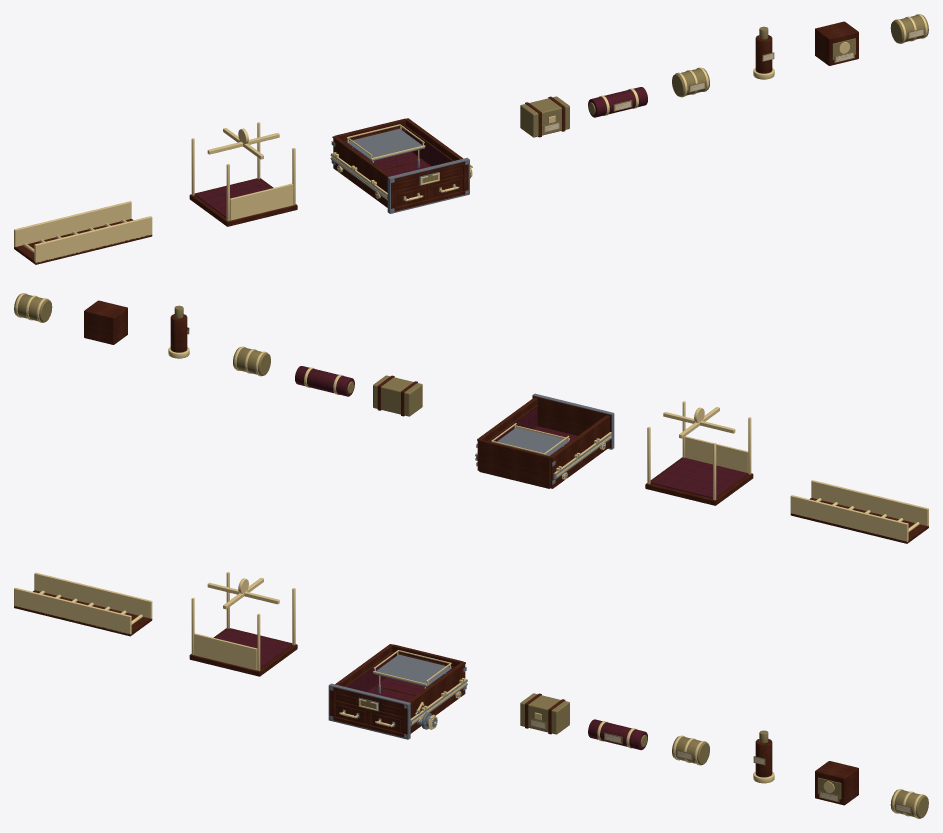
Rendered from vertical_lost_and_found_kit.glb.
3 views of the same model, one above another, from view 1: azimuth 30°, elevation 25°; view 2: azimuth 150°, elevation 25°; view 3: azimuth 330°, elevation 25° (orthographic).
Visible parts, largest first — view 1: mesh_hero_drawer_role_body_handled_lacquer, mesh_transfer_chute_flange_front, mesh_transfer_chute_flange_back, mesh_load_cage_cargo_hatch_gate, mesh_hero_drawer_role_weighing_pan_iron_structure, trunk_body, mesh_hero_drawer_role_body_worn_lining, inst_case_box, mesh_load_cage_tray_lining, mesh_hero_drawer_role_body_iron_structure, carpet_roll_outer, mesh_load_cage_tray_base (+6 smaller); view 2: mesh_hero_drawer_role_body_handled_lacquer, mesh_hero_drawer_role_rear_bulkhead_handled_lacquer, mesh_transfer_chute_flange_back, mesh_load_cage_tray_lining, mesh_transfer_chute_flange_front, inst_case_box, trunk_body, mesh_load_cage_cargo_hatch_gate, mesh_hero_drawer_role_weighing_pan_iron_structure, carpet_roll_outer, mesh_load_cage_tray_base, mesh_transfer_chute_bed (+4 smaller); view 3: mesh_hero_drawer_role_body_handled_lacquer, mesh_transfer_chute_flange_front, mesh_transfer_chute_flange_back, mesh_load_cage_cargo_hatch_gate, mesh_hero_drawer_role_weighing_pan_iron_structure, trunk_body, mesh_hero_drawer_role_body_worn_lining, inst_case_box, mesh_load_cage_tray_lining, carpet_roll_outer, mesh_hero_drawer_role_body_iron_structure, mesh_load_cage_tray_base (+6 smaller).
Part boxes in pixels (x1=…): mesh_hero_drawer_role_body_handled_lacquer: x1=332, y1=118, x2=468, y2=211; mesh_transfer_chute_flange_front: x1=34, y1=216, x2=152, y2=262; mesh_transfer_chute_flange_back: x1=14, y1=201, x2=131, y2=247; mesh_load_cage_cargo_hatch_gate: x1=230, y1=183, x2=293, y2=220; mesh_hero_drawer_role_weighing_pan_iron_structure: x1=346, y1=128, x2=424, y2=161; trunk_body: x1=520, y1=96, x2=569, y2=137; mesh_hero_drawer_role_body_worn_lining: x1=365, y1=128, x2=451, y2=175; inst_case_box: x1=815, y1=21, x2=858, y2=65; mesh_load_cage_tray_lining: x1=195, y1=178, x2=271, y2=217; mesh_hero_drawer_role_body_iron_structure: x1=331, y1=141, x2=469, y2=213; carpet_roll_outer: x1=588, y1=87, x2=647, y2=117; mesh_load_cage_tray_base: x1=189, y1=178, x2=297, y2=226; mesh_hero_drawer_role_body_handled_lacquer: x1=477, y1=396, x2=611, y2=488; mesh_hero_drawer_role_rear_bulkhead_handled_lacquer: x1=479, y1=439, x2=550, y2=488; mesh_transfer_chute_flange_back: x1=790, y1=495, x2=908, y2=541; mesh_load_cage_tray_lining: x1=650, y1=457, x2=747, y2=498; mesh_transfer_chute_flange_front: x1=811, y1=480, x2=928, y2=526; inst_case_box: x1=84, y1=300, x2=127, y2=344; trunk_body: x1=373, y1=375, x2=422, y2=416; mesh_load_cage_cargo_hatch_gate: x1=685, y1=436, x2=748, y2=472; mesh_hero_drawer_role_weighing_pan_iron_structure: x1=497, y1=427, x2=569, y2=455; carpet_roll_outer: x1=295, y1=366, x2=354, y2=396; mesh_load_cage_tray_base: x1=645, y1=457, x2=753, y2=505; mesh_transfer_chute_bed: x1=790, y1=498, x2=928, y2=543; mesh_hero_drawer_role_body_handled_lacquer: x1=329, y1=644, x2=465, y2=737; mesh_transfer_chute_flange_front: x1=14, y1=587, x2=131, y2=634; mesh_transfer_chute_flange_back: x1=34, y1=572, x2=152, y2=618; mesh_load_cage_cargo_hatch_gate: x1=194, y1=633, x2=257, y2=670; mesh_hero_drawer_role_weighing_pan_iron_structure: x1=373, y1=654, x2=451, y2=686; trunk_body: x1=520, y1=693, x2=569, y2=734; mesh_hero_drawer_role_body_worn_lining: x1=347, y1=654, x2=432, y2=701; inst_case_box: x1=815, y1=761, x2=858, y2=805; mesh_load_cage_tray_lining: x1=216, y1=628, x2=292, y2=667; carpet_roll_outer: x1=588, y1=719, x2=647, y2=750; mesh_hero_drawer_role_body_iron_structure: x1=328, y1=667, x2=466, y2=739; mesh_load_cage_tray_base: x1=189, y1=628, x2=297, y2=676.
Size of the model in its own units: 18.48 by 1.78 by 2.24.
11 materials, 9 textured.
